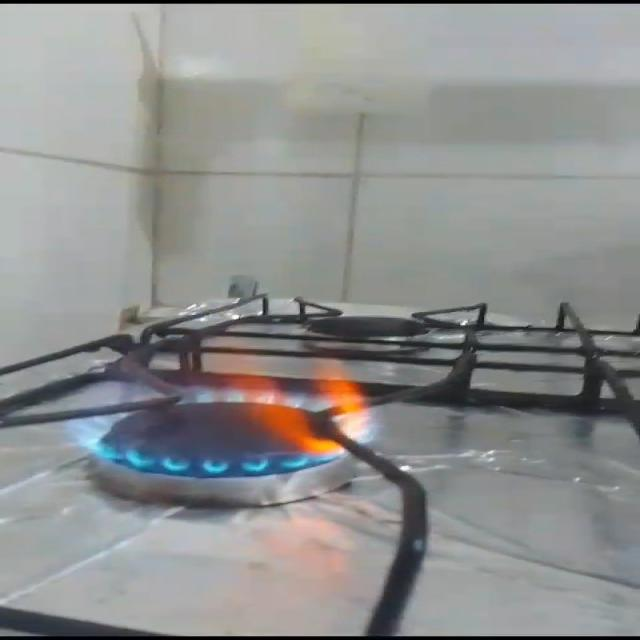fogo-ypXI: (55, 321, 380, 480)
